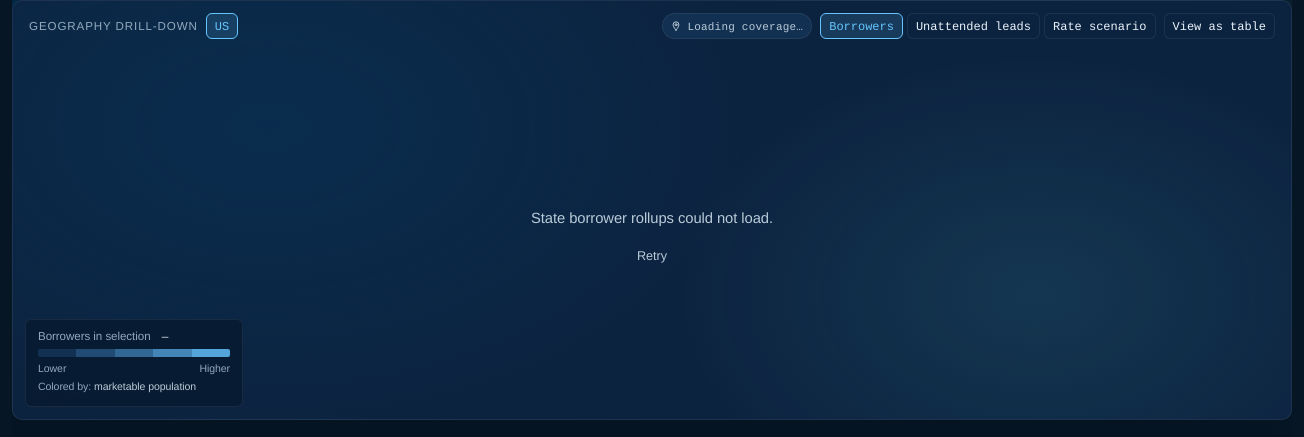
Test: USChoroplethMap encoding, resilience and URL control (dataviz-02 / dataviz-04) › shows an em dash, not 0, and a retry when the state rollups fail
Expected: the element with class "map-stage--status" shows "State borrower rollups could not load.", x1=531 y1=208 x2=773 y2=270
Expected: the text with class "map-legend__value" reads "—", x1=162 y1=329 x2=168 y2=343
Click the button "Retry" at {"x": 652, "y": 256}, box x1=626 y1=240 x2=678 y2=270
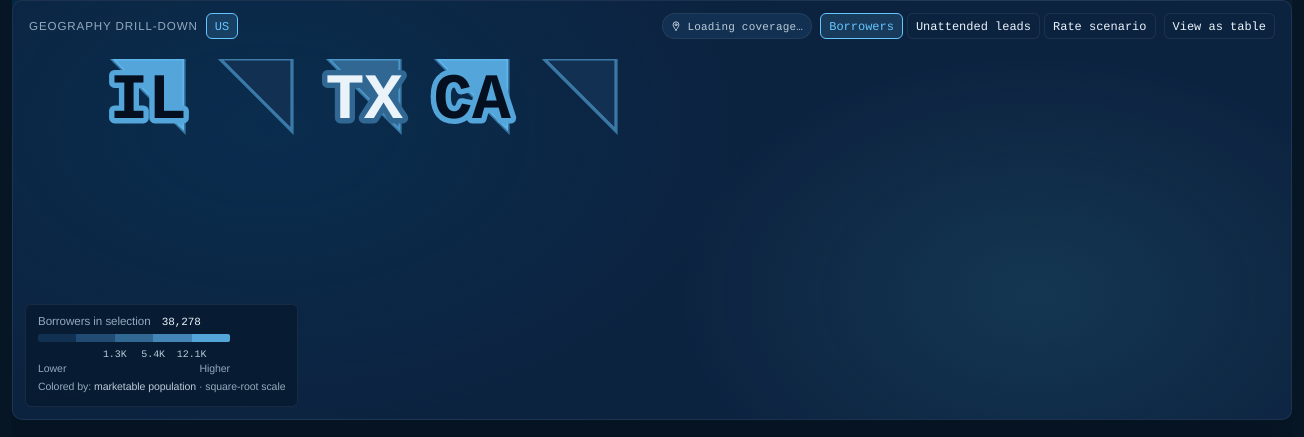
Expected: the text with class "map-legend__value" reads "38,278", x1=162 y1=314 x2=201 y2=328
